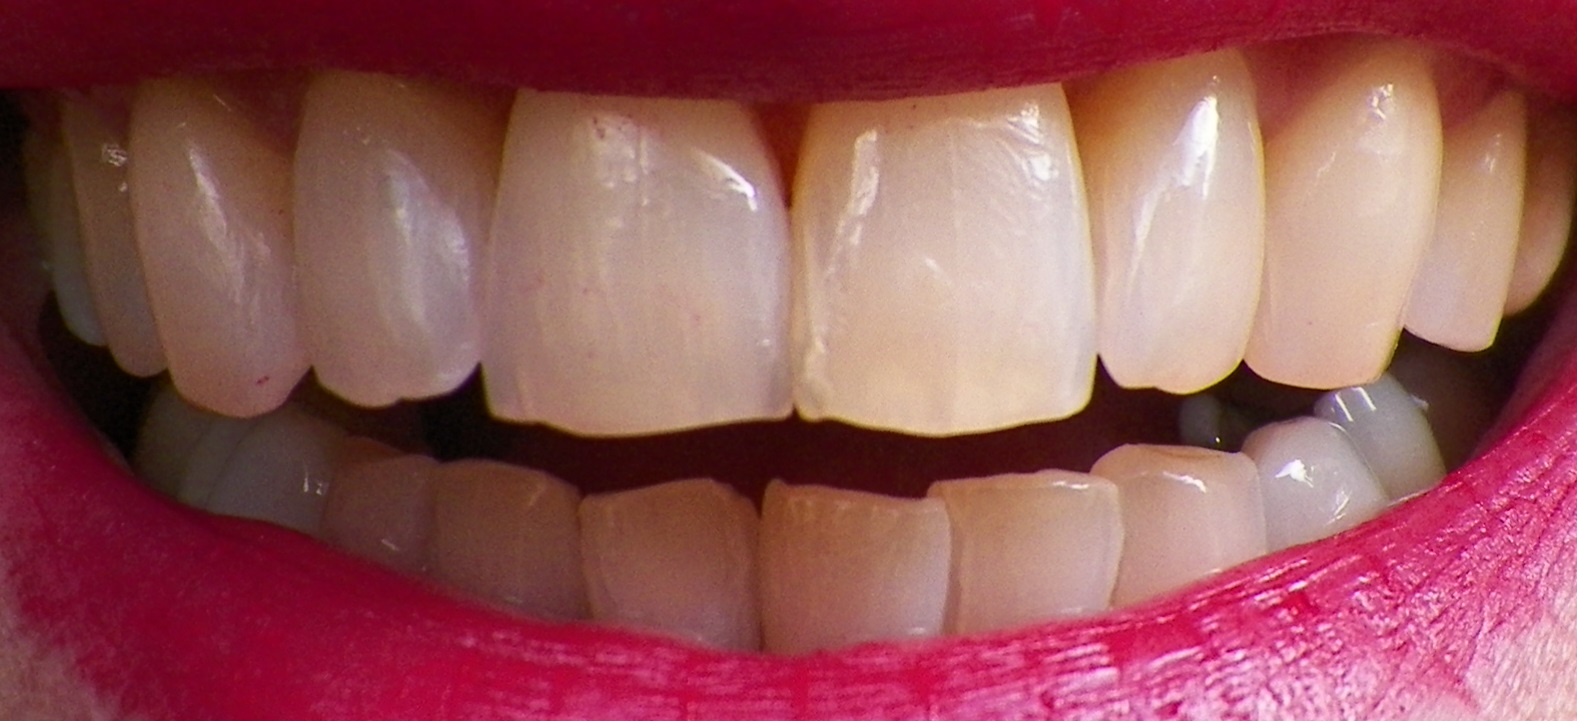boca: (21, 80, 1574, 637)
